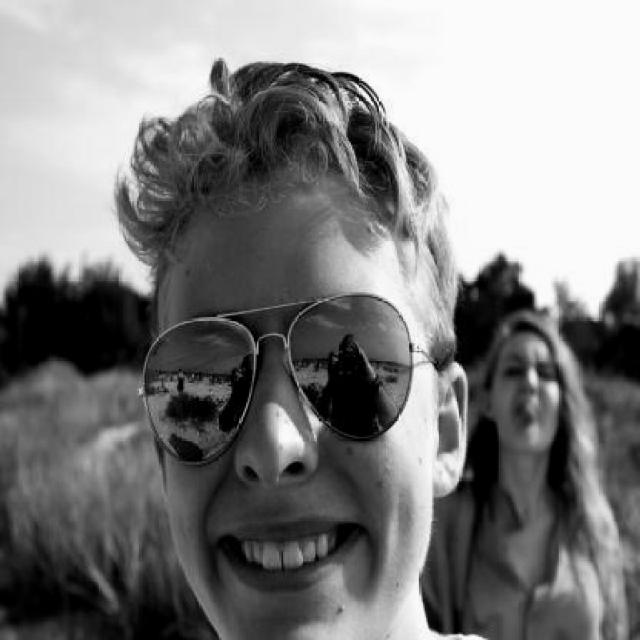face_nomask: (159, 291, 430, 611), (495, 352, 568, 442)
glasses: (137, 293, 443, 478)
head_nohelmet: (133, 93, 458, 290), (502, 307, 580, 358)
person: (433, 303, 619, 640)
